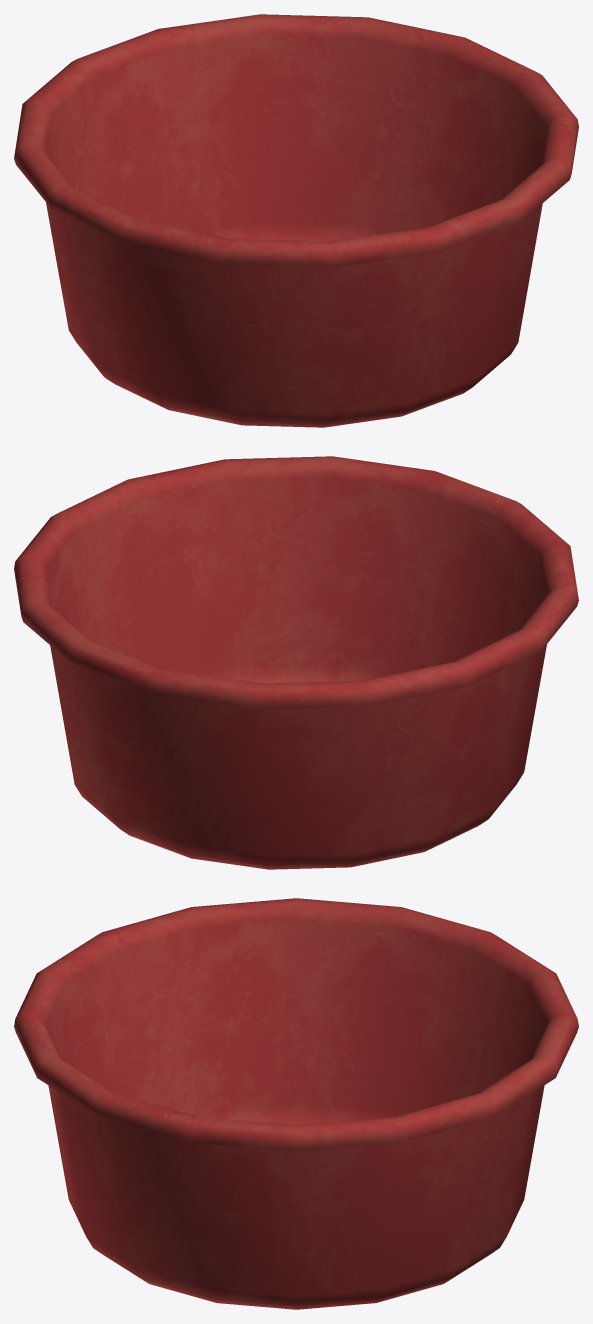
Rendered from water_tong.FBX.
3 renders of one model, top to bottom at view 1: azimuth 30°, elevation 25°; view 2: azimuth 150°, elevation 25°; view 3: azimuth 270°, elevation 25°, orthographic.
Visible parts, largest first — view 1: water_tong; view 2: water_tong; view 3: water_tong.
Boxes of the visible parts, box(x1,y1,x2,y2) form: water_tong: box(14, 14, 578, 427); water_tong: box(14, 456, 578, 869); water_tong: box(14, 898, 578, 1309).
Size of the model in its own units: 43.81 by 17.79 by 43.81.
Materials: 1 (1 with a texture image).
